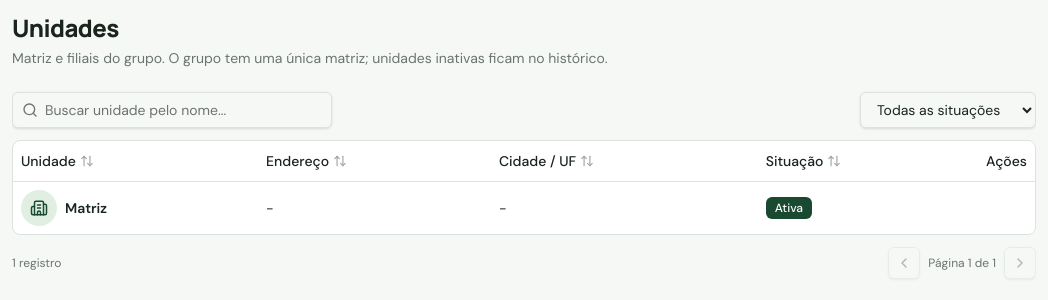
Test: UnidadesPage › busca sem resultado mostra a mensagem de vazio da busca
Expected: the text "Matriz" is shown, [21, 190, 107, 226]
Type "xyz" into the field labelled "Buscar" at {"x": 172, "y": 110}, box [12, 92, 332, 128]
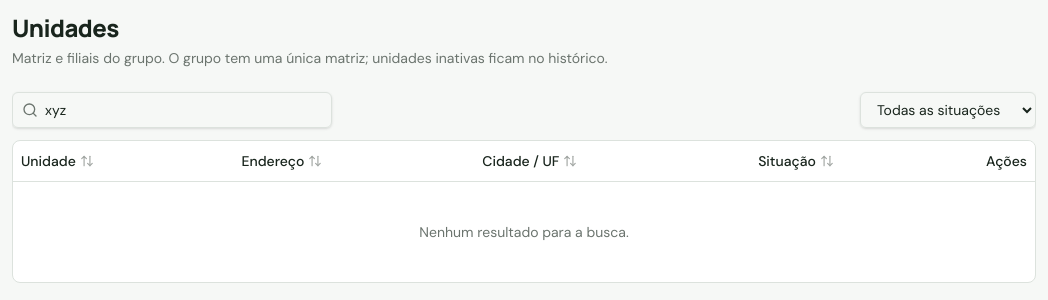
Expected: the row with test id "table-empty" reads "Nenhum resultado para a busca.", [419, 222, 629, 240]
